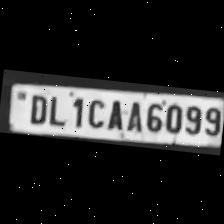0: (162, 99, 184, 132)
1: (65, 92, 85, 128)
6: (140, 96, 164, 132)
9: (182, 100, 202, 134), (202, 103, 222, 136)
A: (105, 96, 127, 131), (124, 97, 144, 132)
C: (82, 94, 108, 128)
D: (24, 90, 48, 124)
L: (45, 91, 69, 125)
